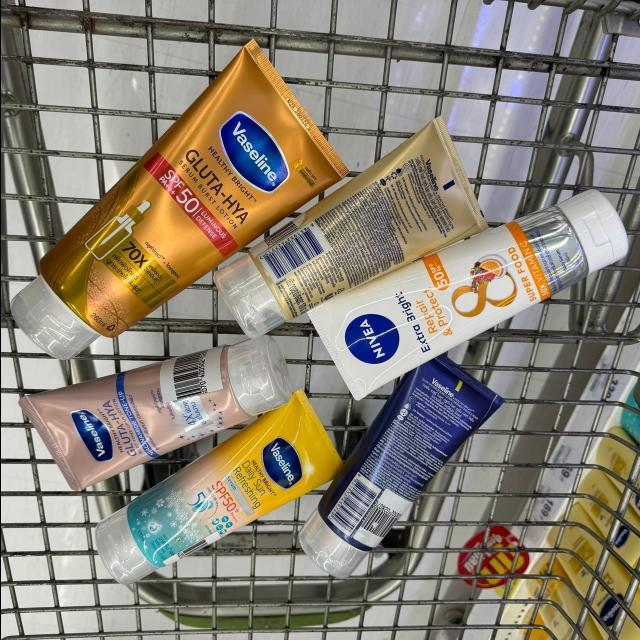Squeeze Tube: (1, 26, 355, 383), (309, 184, 632, 408), (202, 106, 496, 342), (76, 388, 346, 589), (297, 359, 514, 595), (20, 334, 296, 498)
